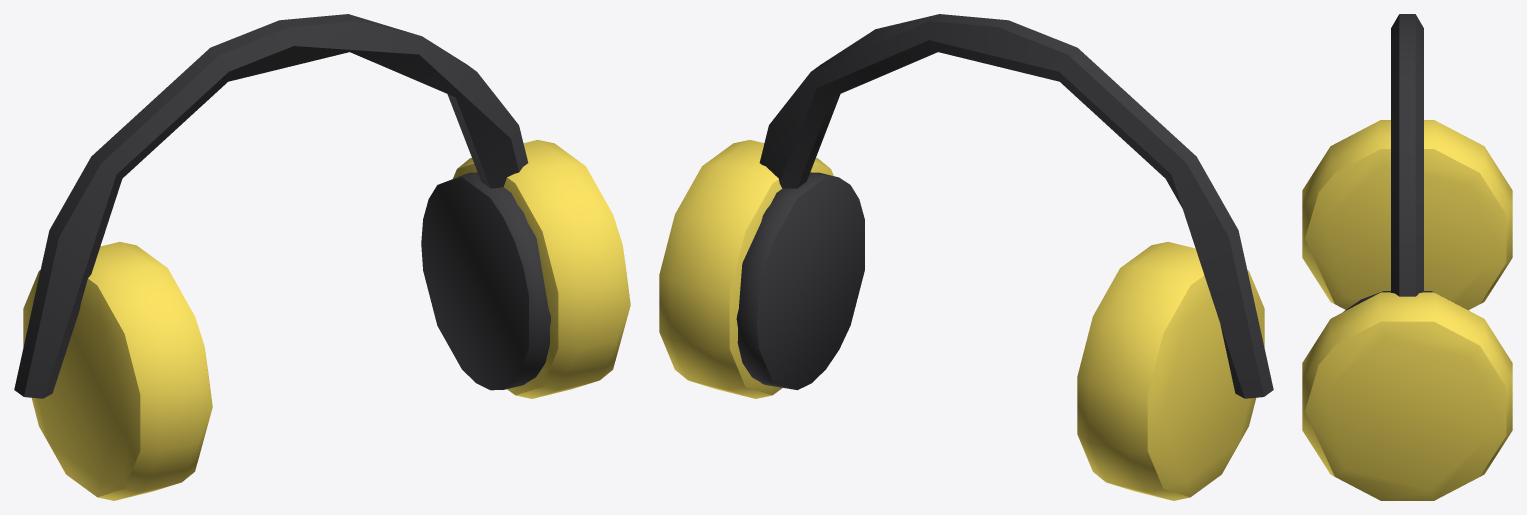
The model's file is SER-EPI-005_lod1.glb.
The picture shows the model from 3 angles, left to right: view 1: azimuth 30°, elevation 25°; view 2: azimuth 150°, elevation 25°; view 3: azimuth 270°, elevation 25°; orthographic projection. The views are drawn at different scales.
Parts seen in each view (by area): view 1: SER-EPI-005_arco, SER-EPI-005_concha-1, SER-EPI-005_almofada1, SER-EPI-005_concha1; view 2: SER-EPI-005_concha-1, SER-EPI-005_arco, SER-EPI-005_almofada1, SER-EPI-005_concha1; view 3: SER-EPI-005_concha1, SER-EPI-005_concha-1, SER-EPI-005_arco.
Boxes of the visible parts, x1=… form: SER-EPI-005_arco: x1=14, y1=14, x2=528, y2=398; SER-EPI-005_concha-1: x1=23, y1=241, x2=212, y2=500; SER-EPI-005_almofada1: x1=421, y1=172, x2=550, y2=390; SER-EPI-005_concha1: x1=453, y1=140, x2=630, y2=398; SER-EPI-005_concha-1: x1=1077, y1=242, x2=1264, y2=500; SER-EPI-005_arco: x1=759, y1=14, x2=1273, y2=398; SER-EPI-005_almofada1: x1=736, y1=172, x2=864, y2=390; SER-EPI-005_concha1: x1=659, y1=140, x2=833, y2=398; SER-EPI-005_concha1: x1=1302, y1=292, x2=1512, y2=500; SER-EPI-005_concha-1: x1=1302, y1=120, x2=1512, y2=310; SER-EPI-005_arco: x1=1391, y1=14, x2=1423, y2=296.
Size of the model in its own units: 0.2002 by 0.1438 by 0.0773.
